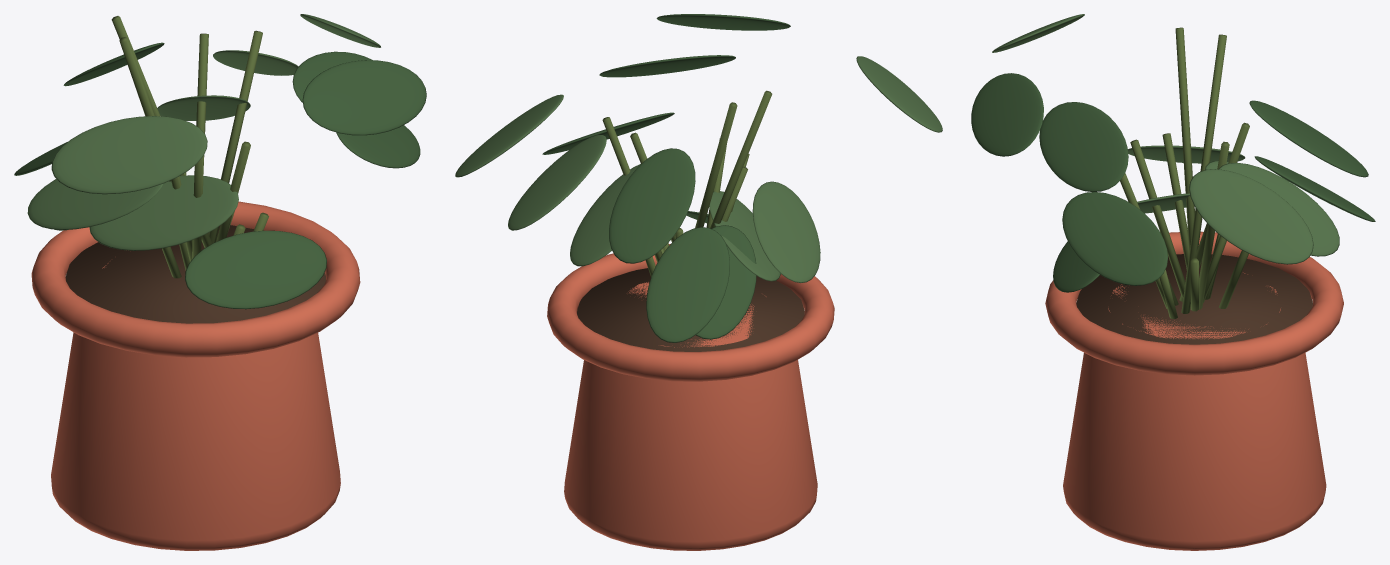
File: plante.glb
3 views of the same model, side by side, from view 1: azimuth 30°, elevation 25°; view 2: azimuth 150°, elevation 25°; view 3: azimuth 270°, elevation 25° (orthographic). The views are drawn at different scales.
Parts seen in each view (by area): view 1: pot, levre, terreau, feuille9, feuille0, feuille4, feuille5, feuille1, feuille12, feuille11, tige8, feuille8 (+9 smaller); view 2: pot, levre, terreau, feuille6, feuille2, feuille1, feuille7, feuille10, feuille11, feuille3, feuille9, feuille5 (+5 smaller); view 3: pot, terreau, levre, feuille3, feuille12, feuille8, feuille4, feuille7, feuille2, tige9, tige4, feuille6 (+9 smaller).
Part boxes in pixels (x1=…): pot: x1=51, y1=263, x2=340, y2=550; levre: x1=31, y1=201, x2=360, y2=357; terreau: x1=65, y1=225, x2=325, y2=323; feuille9: x1=51, y1=116, x2=207, y2=194; feuille0: x1=185, y1=230, x2=326, y2=309; feuille4: x1=302, y1=60, x2=426, y2=135; feuille5: x1=89, y1=175, x2=238, y2=250; feuille1: x1=27, y1=179, x2=163, y2=229; feuille12: x1=336, y1=125, x2=420, y2=168; feuille11: x1=157, y1=95, x2=250, y2=120; tige8: x1=208, y1=30, x2=262, y2=243; feuille8: x1=292, y1=51, x2=372, y2=102; pot: x1=564, y1=282, x2=817, y2=550; levre: x1=547, y1=244, x2=834, y2=381; terreau: x1=577, y1=268, x2=804, y2=351; feuille6: x1=646, y1=227, x2=729, y2=342; feuille2: x1=609, y1=148, x2=695, y2=263; feuille1: x1=752, y1=181, x2=820, y2=282; feuille7: x1=508, y1=135, x2=606, y2=230; feuille10: x1=696, y1=225, x2=756, y2=339; feuille11: x1=570, y1=164, x2=640, y2=266; feuille3: x1=455, y1=94, x2=563, y2=177; feuille9: x1=856, y1=56, x2=942, y2=132; feuille5: x1=709, y1=191, x2=780, y2=281; pot: x1=1063, y1=272, x2=1326, y2=550; terreau: x1=1076, y1=254, x2=1312, y2=344; levre: x1=1045, y1=231, x2=1343, y2=375; feuille3: x1=1189, y1=169, x2=1313, y2=264; feuille12: x1=1062, y1=192, x2=1167, y2=285; feuille8: x1=1039, y1=102, x2=1128, y2=191; feuille4: x1=971, y1=73, x2=1043, y2=156; feuille7: x1=1218, y1=162, x2=1339, y2=256; feuille2: x1=1249, y1=100, x2=1368, y2=177; tige9: x1=1181, y1=34, x2=1226, y2=313; tige4: x1=1175, y1=27, x2=1194, y2=251; feuille6: x1=1254, y1=156, x2=1375, y2=221.
Size of the model in its own units: 0.871 by 0.9361 by 0.7851.
